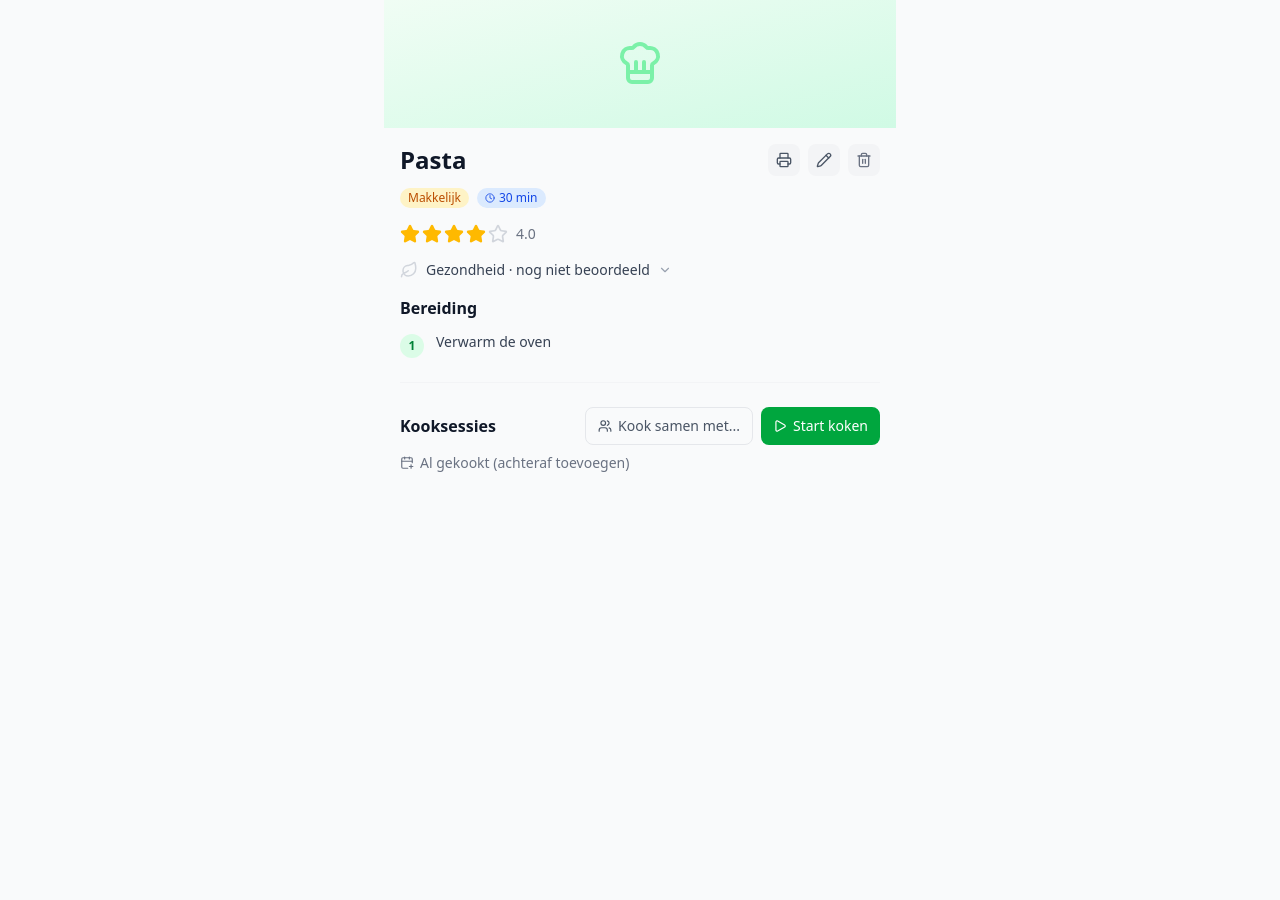
Scenario: RecipeDetail "Kook samen met..." pairing › shows an error message when pairing fails (e.g. already cooking)
Expected: the heading "Pasta" is shown, [400,144,466,176]
Click the button "Kook samen met..." at (669, 426), box [585,407,753,445]
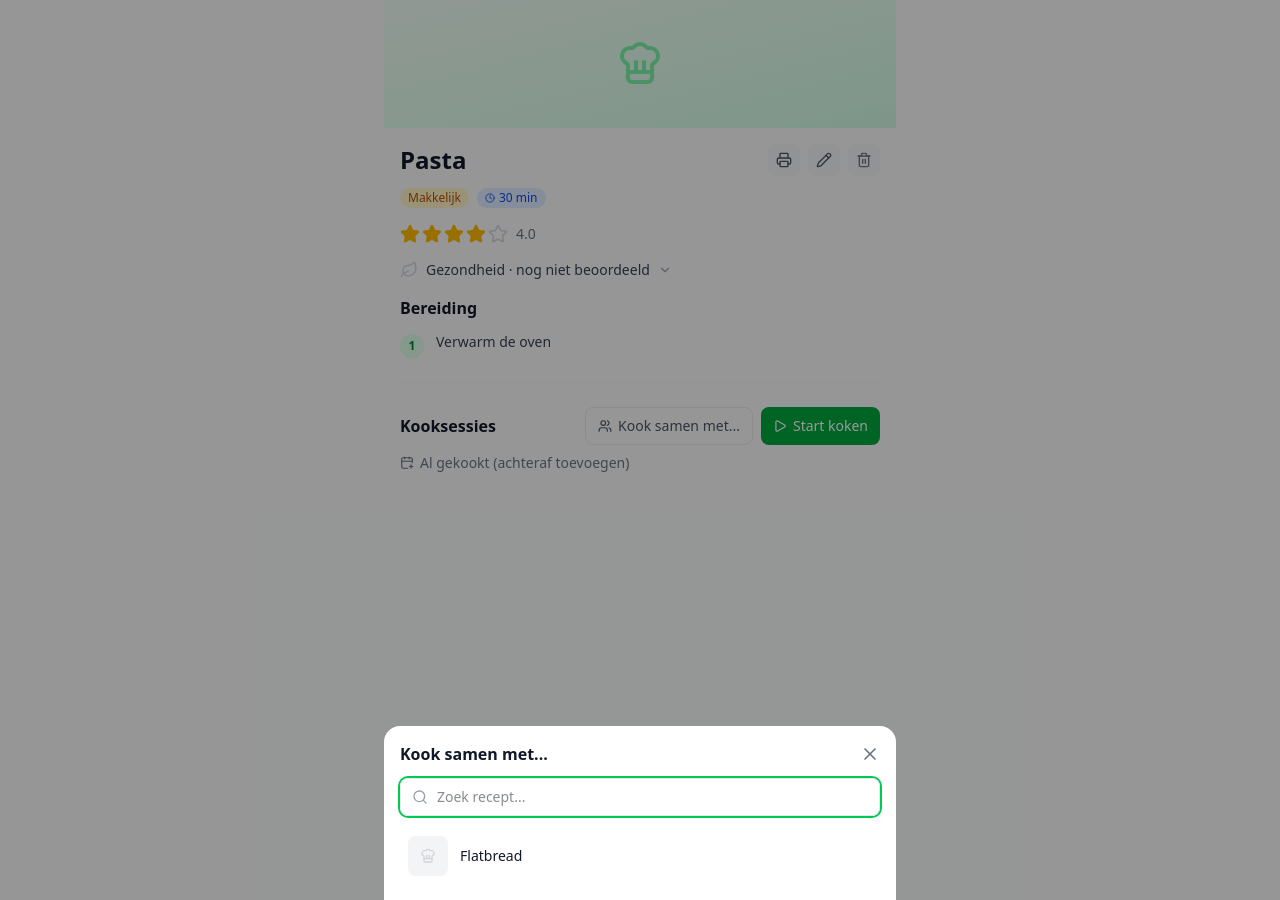
Click the button "Flatbread" at (428, 856), box [400,828,880,884]
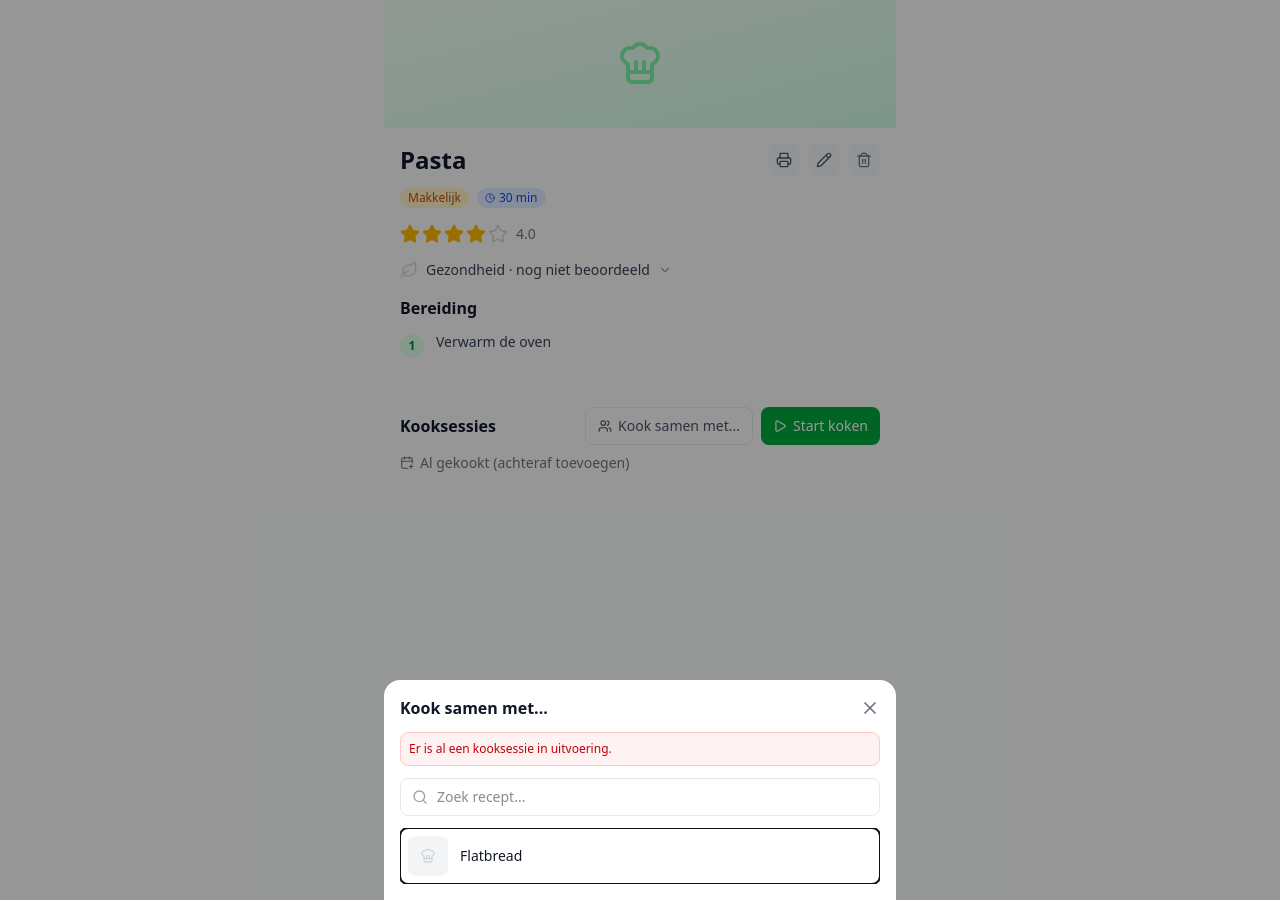
Now the text "Er is al een kooksessie in uitvoering." is shown, box [400,732,880,766]
